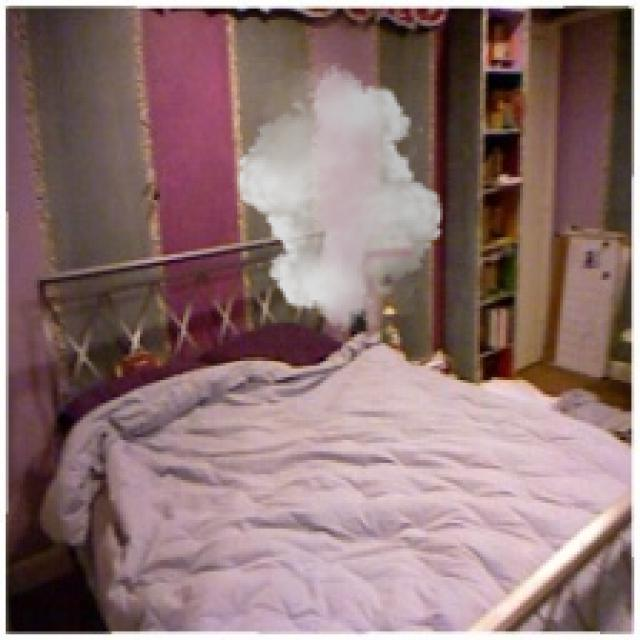smoke: (228, 63, 452, 331)
